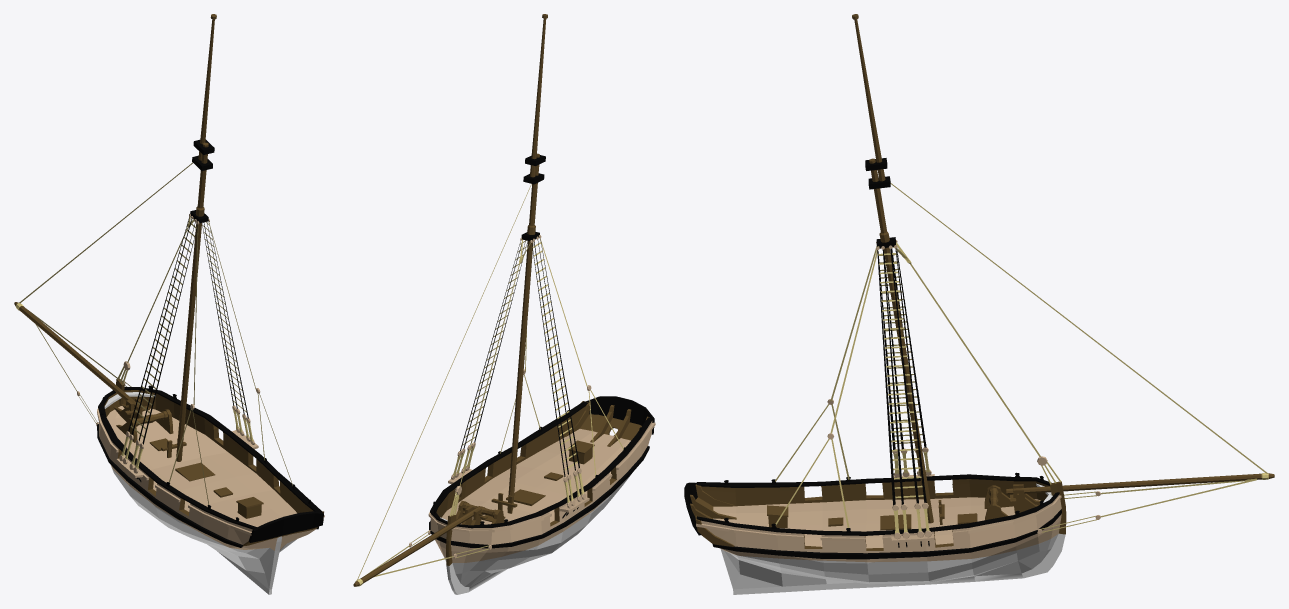
Rendered from cutter_new.gltf.
The picture shows the model from 3 angles, left to right: view 1: azimuth 30°, elevation 25°; view 2: azimuth 150°, elevation 25°; view 3: azimuth 270°, elevation 25°; orthographic projection. The views are drawn at different scales.
Visible parts, largest first — view 1: Boat; view 2: Boat; view 3: Boat.
Part boxes in pixels (x1=…): Boat: x1=14, y1=14, x2=324, y2=594; Boat: x1=353, y1=14, x2=655, y2=594; Boat: x1=684, y1=14, x2=1274, y2=594.
Bounding box in the file's own units: 5.39 × 22.43 × 20.71.
